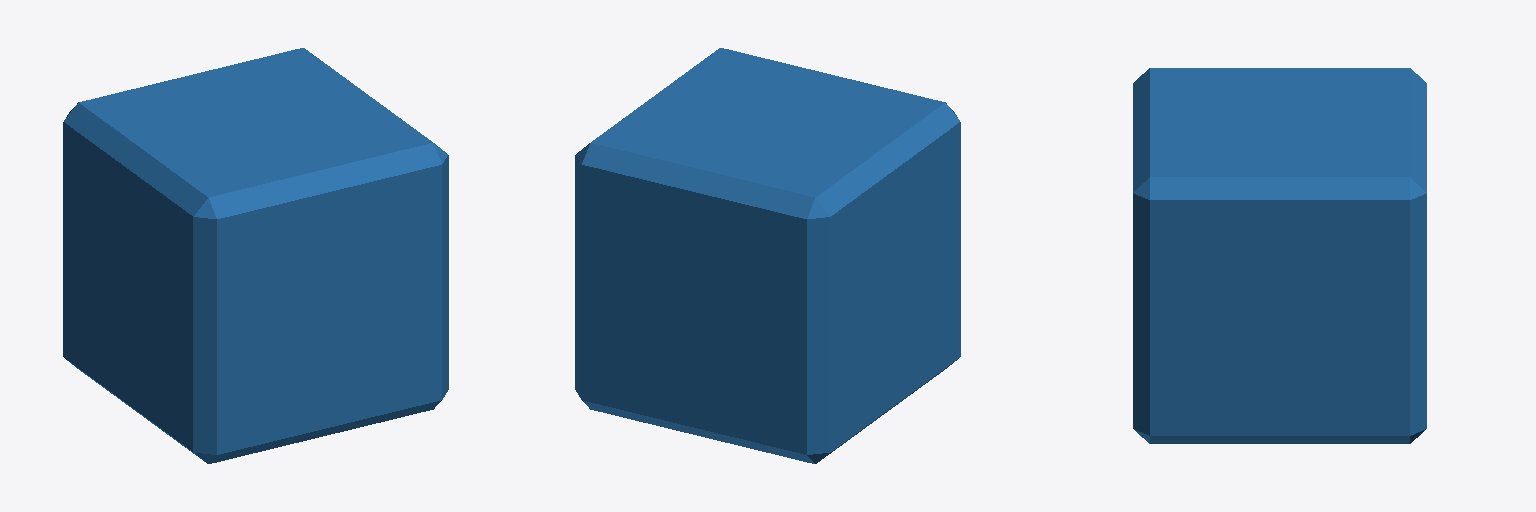
3 renders of one model, left to right at view 1: azimuth 30°, elevation 25°; view 2: azimuth 150°, elevation 25°; view 3: azimuth 270°, elevation 25°, orthographic.
Parts seen in each view (by area): view 1: Ground_立方体; view 2: Ground_立方体; view 3: Ground_立方体.
Boxes of the visible parts, <box> form: Ground_立方体: <box>63,48,448,463</box>; Ground_立方体: <box>575,48,960,463</box>; Ground_立方体: <box>1133,68,1426,443</box>.
Bounding box in the file's own units: 1 × 1 × 1.
1 materials, 1 textured.